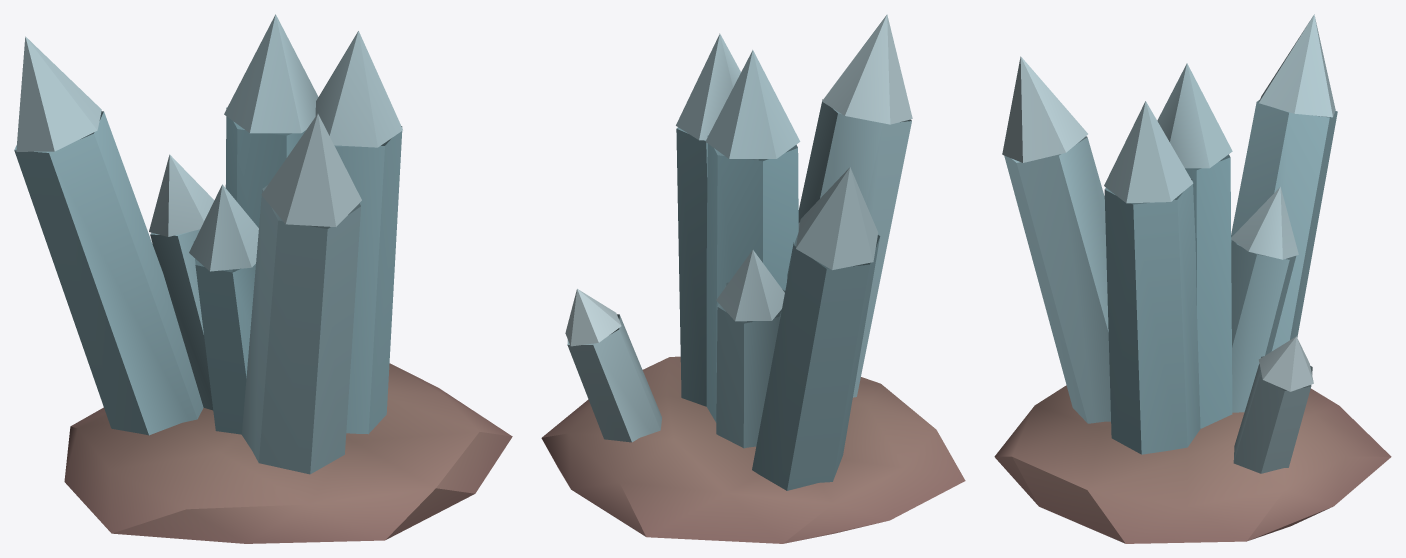
The model's file is thoughtstone_a.glb.
3 renders of one model, left to right at view 1: azimuth 30°, elevation 25°; view 2: azimuth 150°, elevation 25°; view 3: azimuth 270°, elevation 25°, orthographic. The views are drawn at different scales.
Parts seen in each view (by area): view 1: thoughtstone_a; view 2: thoughtstone_a; view 3: thoughtstone_a.
Part boxes in pixels (x1,y1,x2,y2): thoughtstone_a: (14,14,512,543); thoughtstone_a: (541,14,965,543); thoughtstone_a: (994,14,1391,543).
Bounding box in the file's own units: 2.2 × 2.47 × 2.15.
